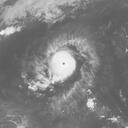cyclone: (48, 51, 76, 81)
